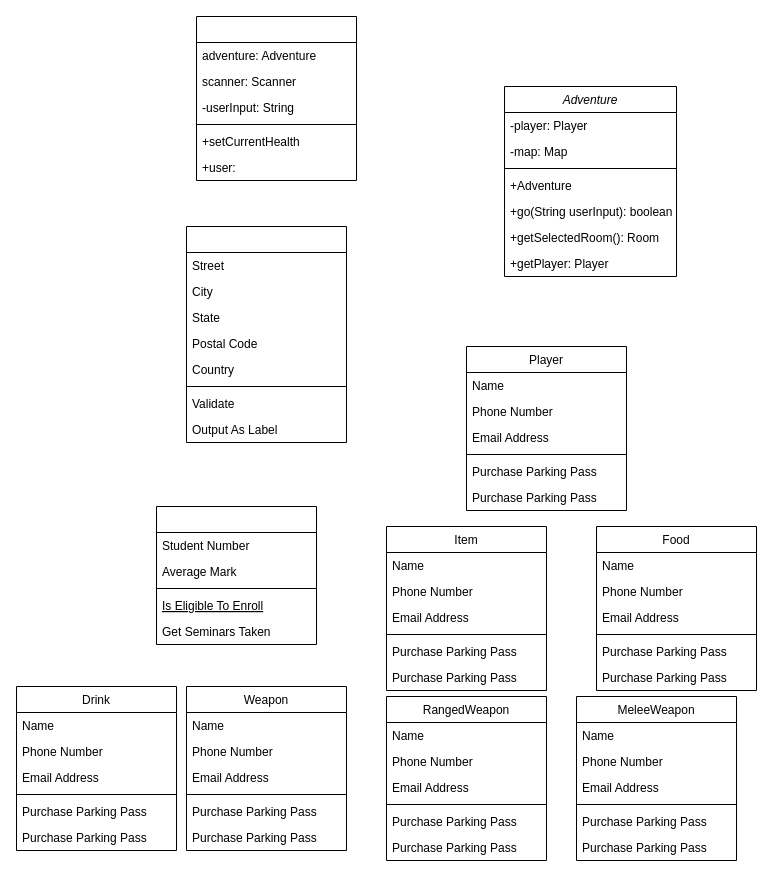
Some shapes in this 773 by 877 pixel diagram are drawn without their labels. The shapes that lost their labels are listed below. From the top down, each one's box as (x1, y1, x2, y2) in pixels, then its label:
(196, 16, 356, 180): UserInterface
(186, 226, 346, 442): Map
(156, 506, 316, 644): Room
